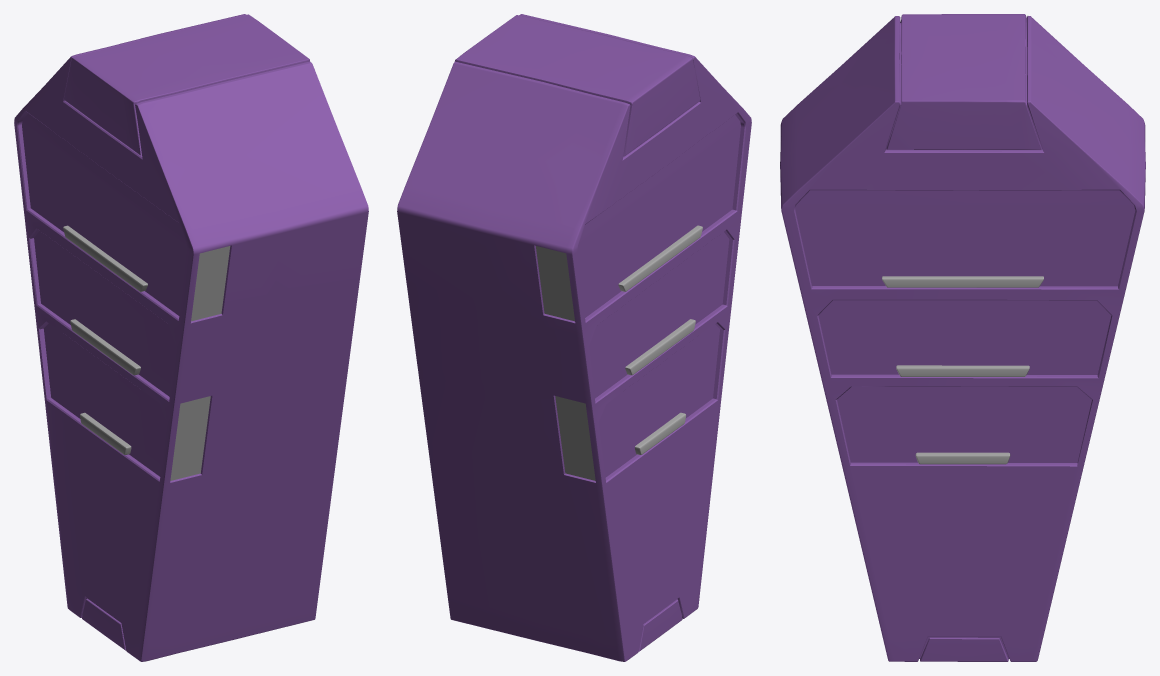
The model's file is staticmesh_StackableCoffin.fbx.
3 views of the same model, side by side, from view 1: azimuth 30°, elevation 25°; view 2: azimuth 150°, elevation 25°; view 3: azimuth 270°, elevation 25° (orthographic).
Visible parts, largest first — view 1: Geo_StackCoffin; view 2: Geo_StackCoffin; view 3: Geo_StackCoffin.
Boxes of the visible parts, x1=… form: Geo_StackCoffin: x1=14, y1=14, x2=368, y2=661; Geo_StackCoffin: x1=397, y1=14, x2=751, y2=661; Geo_StackCoffin: x1=780, y1=14, x2=1145, y2=661.
Size of what is drawn, in the model's own units: 139 by 414 by 244.
